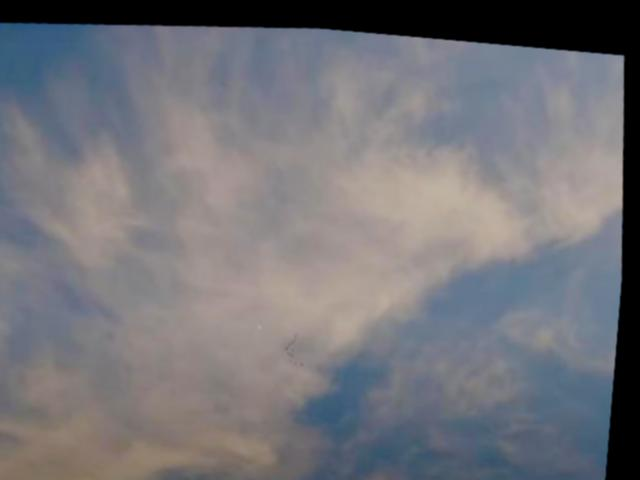iha: (261, 316, 267, 325)
